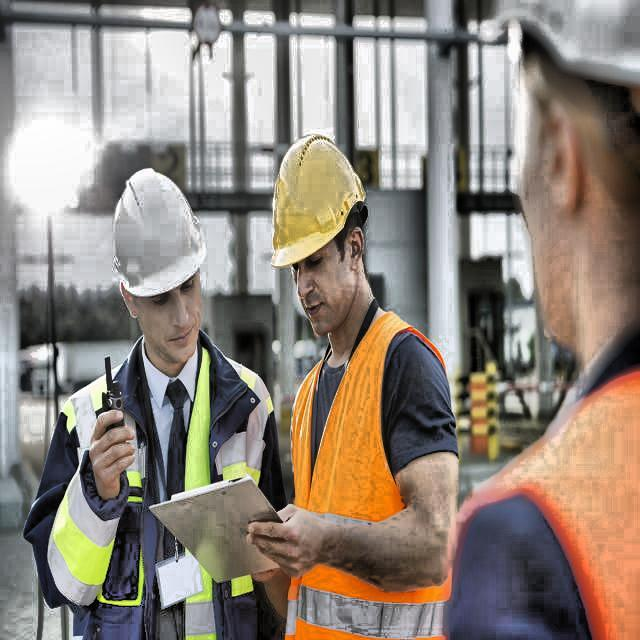person: (45, 165, 292, 640), (251, 129, 468, 640), (487, 1, 640, 640)
